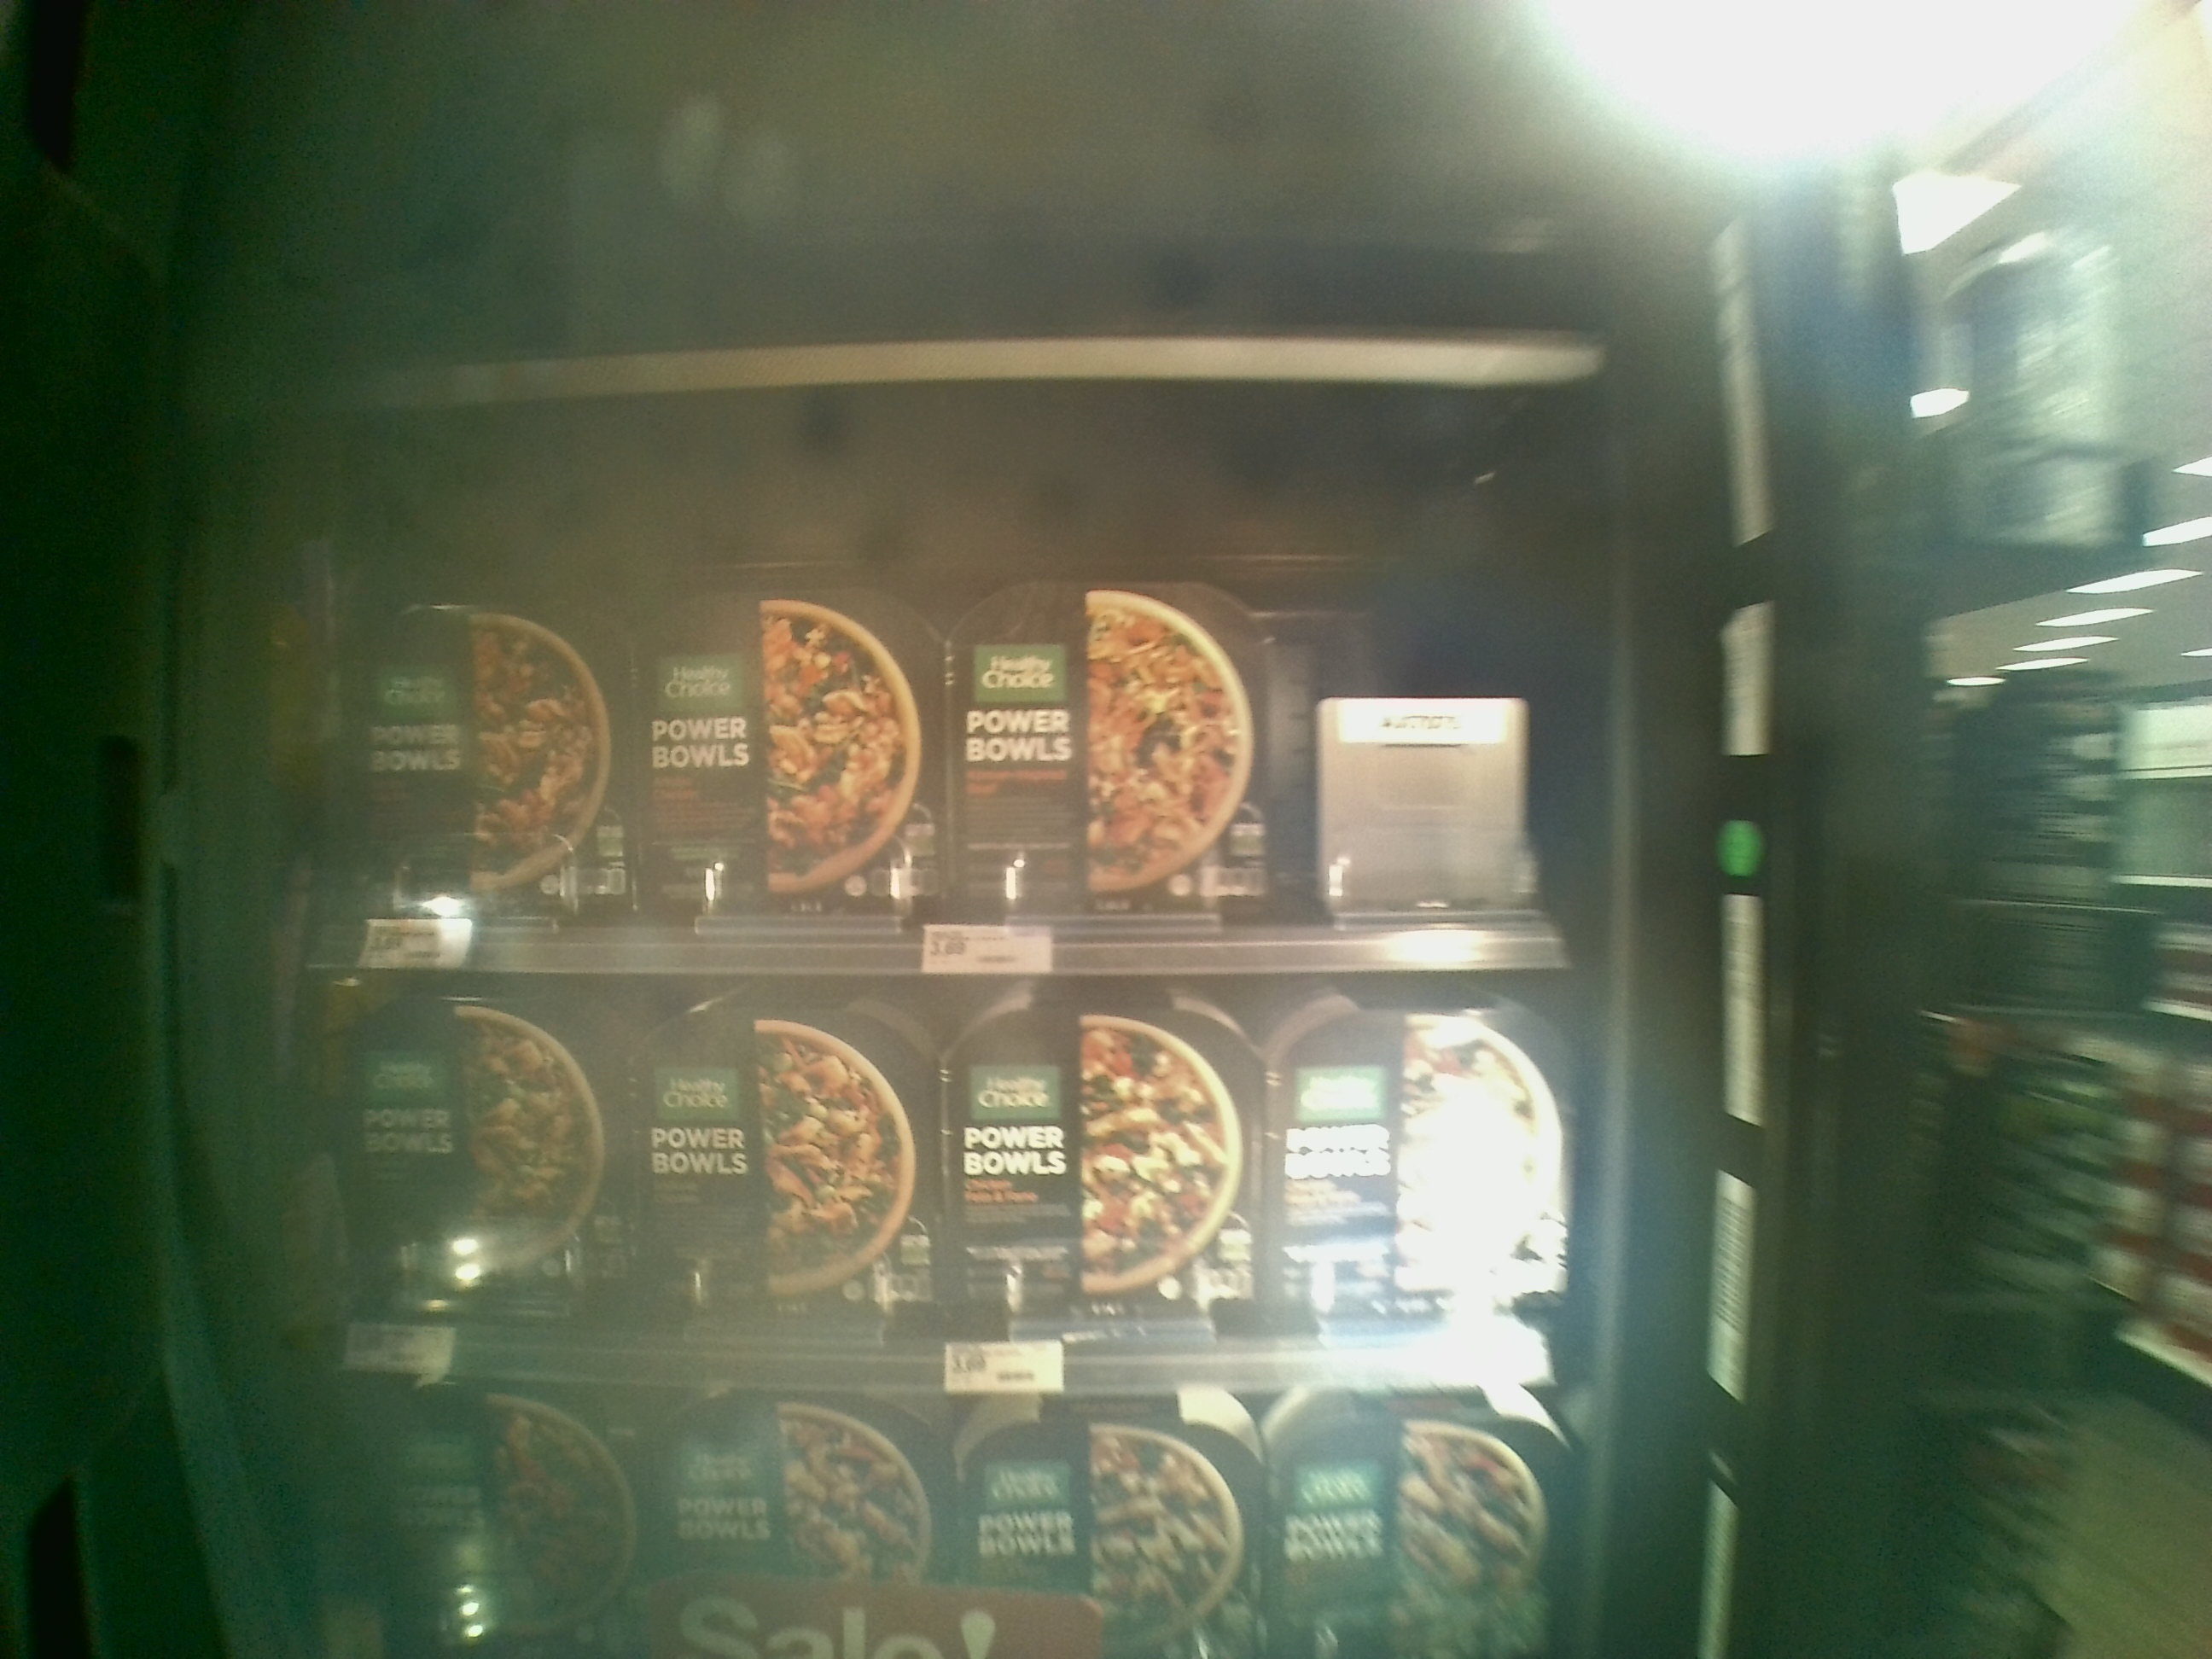shelf: (277, 369, 1592, 958), (307, 955, 1561, 1394)
